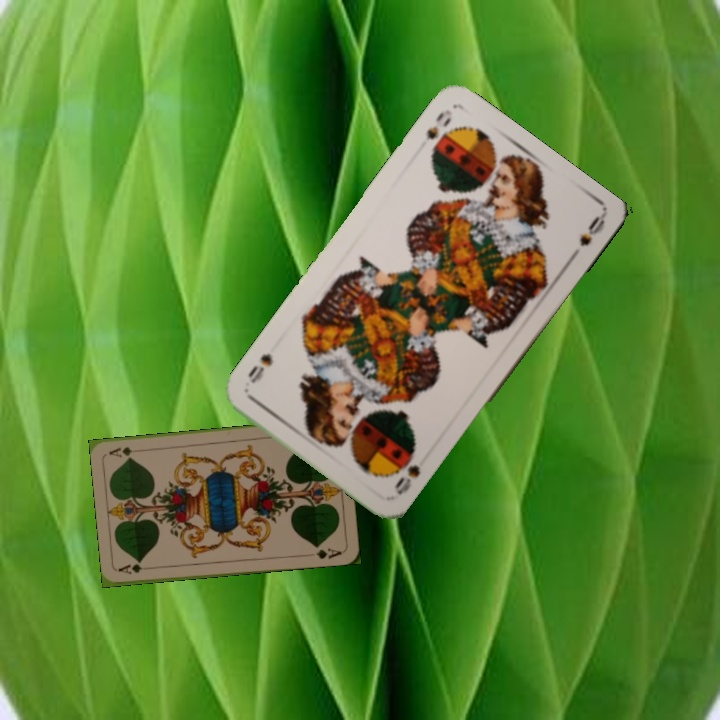GA: (115, 560, 156, 577)
SO: (390, 449, 423, 498), (422, 105, 455, 153)
